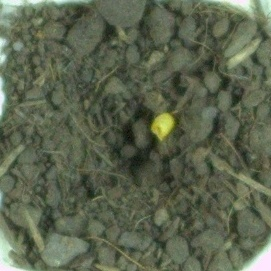chilli seed: (149, 111, 175, 142)
